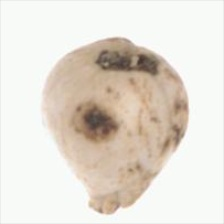L3: (84, 188, 144, 215)
L4: (41, 37, 190, 215)
